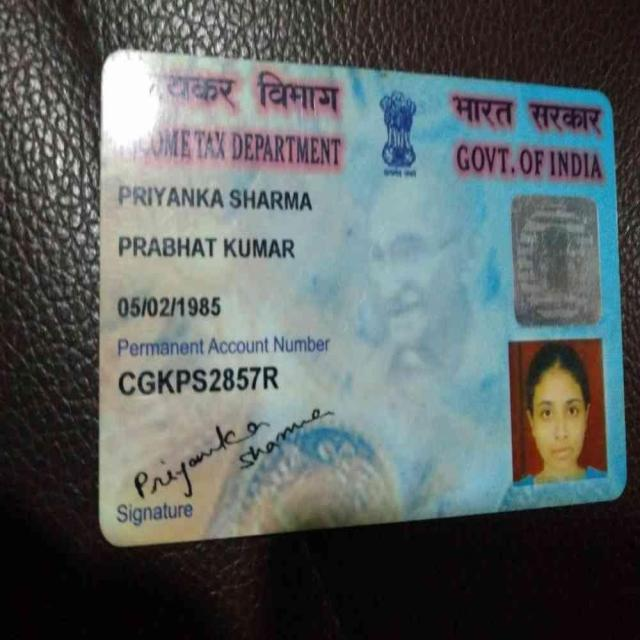pan_card: (104, 52, 622, 541)
